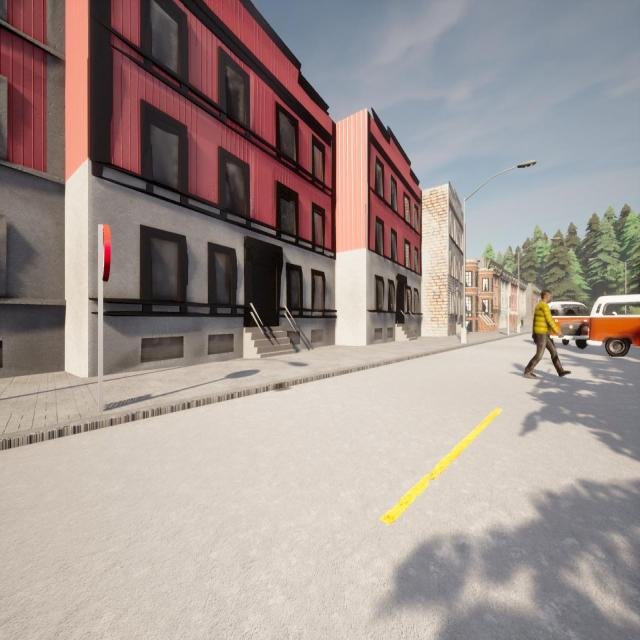Pedestrian: (524, 290, 570, 377), (515, 318, 519, 329), (521, 315, 524, 329)
Traffic_Signs: (97, 224, 112, 283)
Vehicle: (589, 295, 640, 357), (546, 302, 590, 349)
traffic_light: (507, 296, 511, 308)
